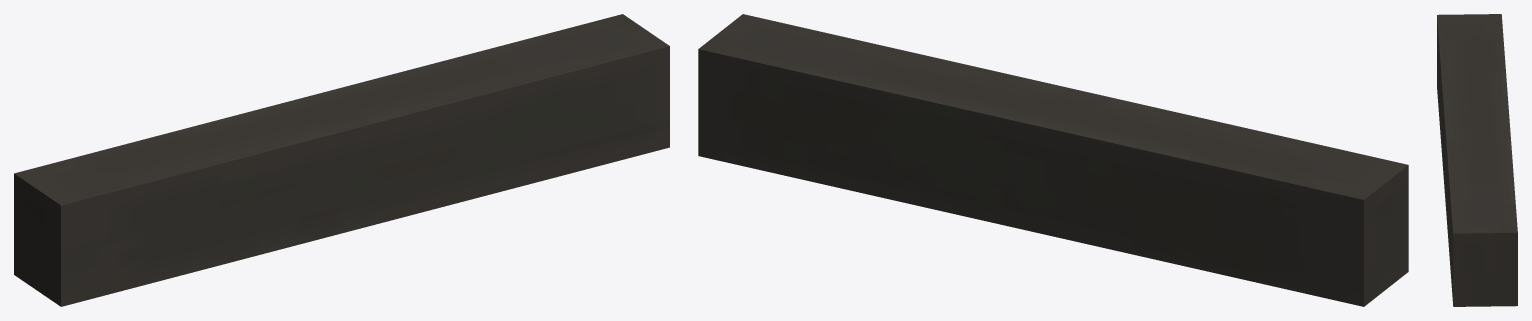
File: frame__top_rail_neg.glb
3 views of the same model, side by side, from view 1: azimuth 30°, elevation 25°; view 2: azimuth 150°, elevation 25°; view 3: azimuth 270°, elevation 25° (orthographic). The views are drawn at different scales.
Visible parts, largest first — view 1: world; view 2: world; view 3: world.
Part boxes in pixels (x1=…): world: x1=14, y1=14, x2=669, y2=306; world: x1=698, y1=14, x2=1408, y2=306; world: x1=1437, y1=14, x2=1517, y2=306.
Size of the model in its own units: 0.3212 by 0.05 by 0.05.
Materials: 1 (1 with a texture image).
